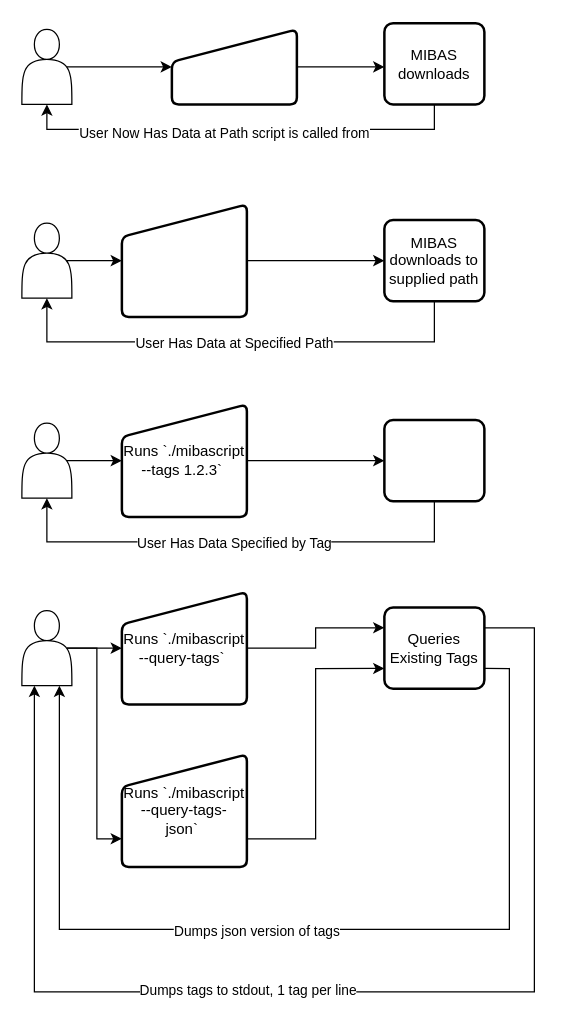
Some shapes in this 566 by 1024 pixel diagram are drawn without their labels. Here are the shapes that lost their labels. From the top down, the centre of each, then its label:
At [234,66]: "Runs ./mibascript".
At [184,260]: "Runs `./mibascript /destination/path`".
At [433,460]: "MIBAS downloads tag 1.2.3".
